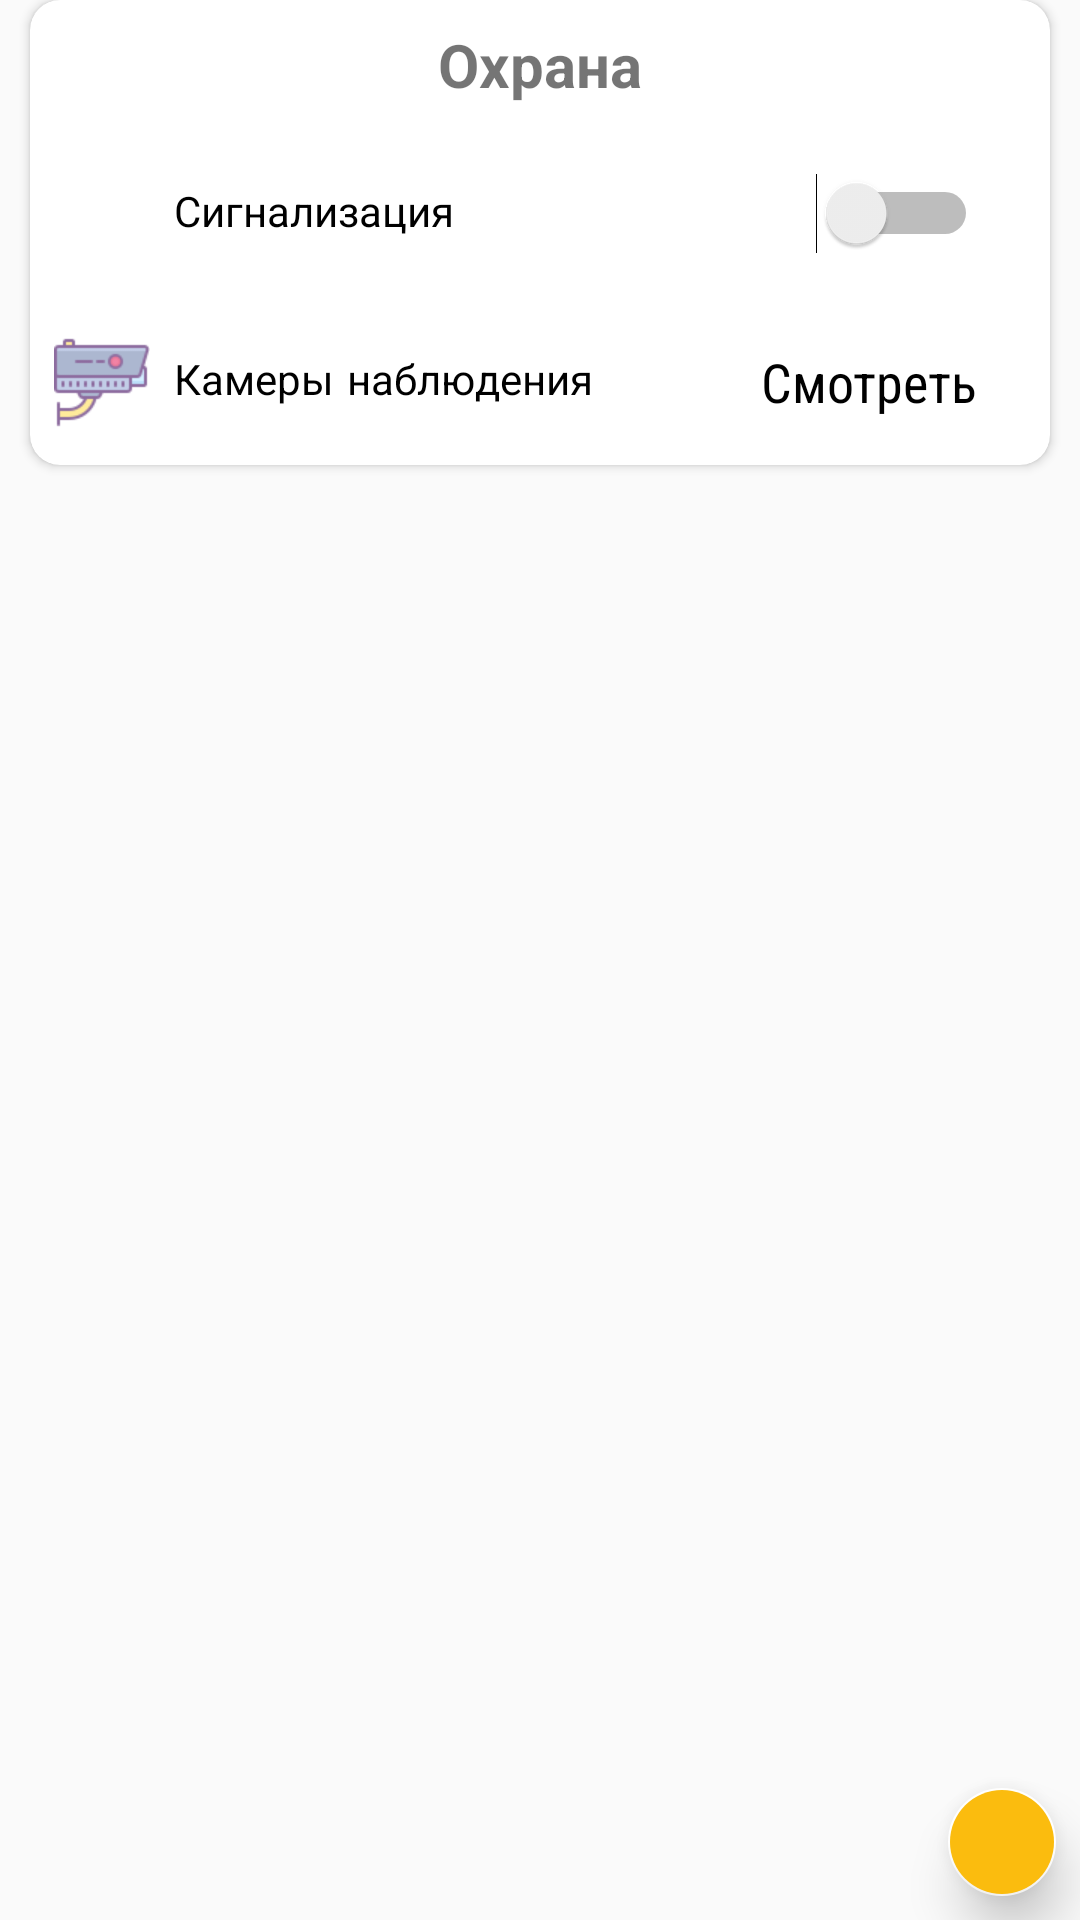

Point at icon controls on the screen. Image size 1080×1920, points as [x,y].
wall camera: [102,382]
